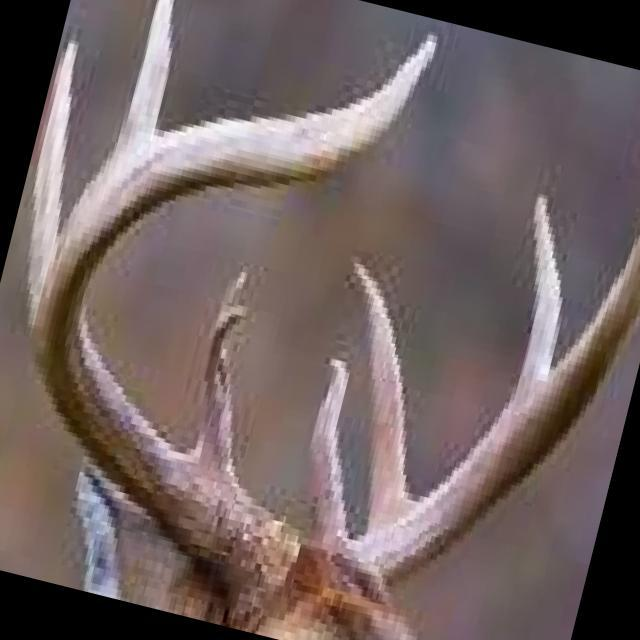L-G1: (307, 354, 352, 550)
L-G2: (349, 253, 415, 534)
L-G3: (511, 193, 562, 400)
R-F: (32, 30, 438, 628)
R-G1: (191, 267, 248, 475)
R-G2: (26, 40, 79, 332)
R-G3: (117, 0, 174, 146)
